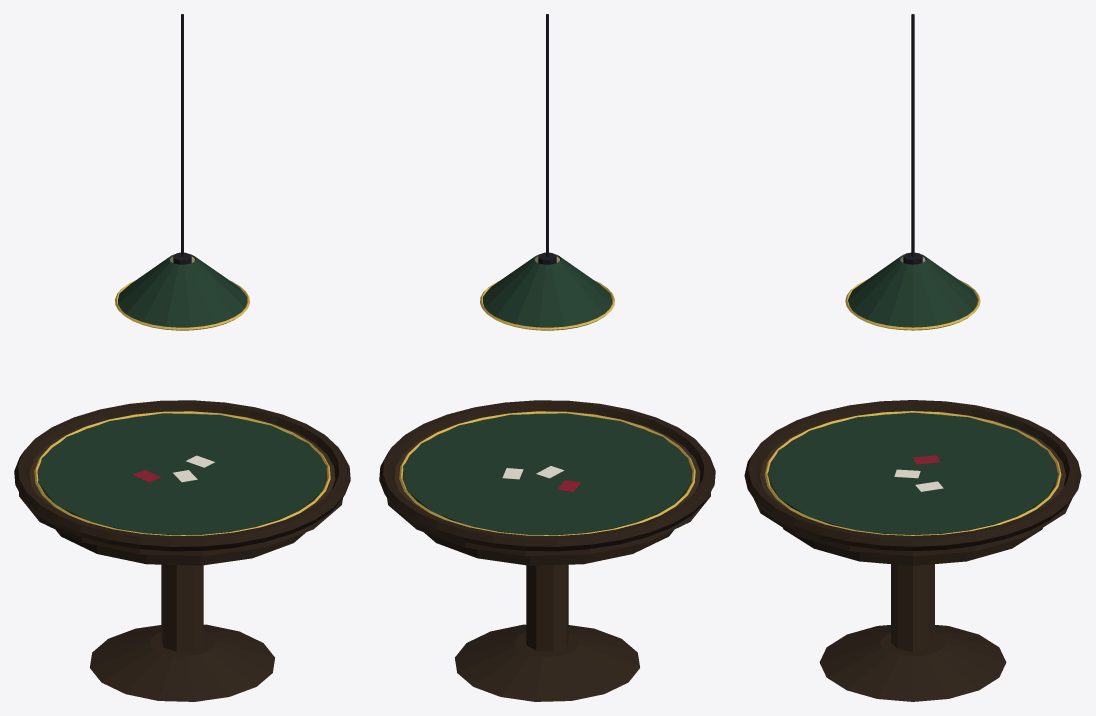
File: table_with_lamp.glb
3 renders of one model, left to right at view 1: azimuth 30°, elevation 25°; view 2: azimuth 150°, elevation 25°; view 3: azimuth 270°, elevation 25°, orthographic.
Parts seen in each view (by area): view 1: Table_Felt, Table_Rail, Table_Base, Lamp_Shade, Table_Leg, Table_Top, Table_Apron, Table_GoldRim, Lamp_Cord, Lamp_Ring; view 2: Table_Felt, Table_Rail, Table_Base, Lamp_Shade, Table_Leg, Table_Top, Table_Apron, Table_GoldRim, Lamp_Cord, Lamp_Ring; view 3: Table_Felt, Table_Rail, Table_Base, Lamp_Shade, Table_Leg, Table_Top, Table_Apron, Table_GoldRim, Lamp_Cord, Lamp_Ring.
Part boxes in pixels (x1,y1,x2,y2): Table_Felt: [38, 413, 326, 535]; Table_Rail: [14, 400, 350, 551]; Table_Base: [90, 624, 274, 701]; Lamp_Shade: [118, 254, 246, 327]; Table_Leg: [161, 564, 203, 651]; Table_Top: [19, 411, 342, 556]; Table_Apron: [56, 530, 305, 565]; Table_GoldRim: [34, 411, 330, 535]; Lamp_Cord: [181, 14, 183, 256]; Lamp_Ring: [115, 281, 249, 330]; Table_Felt: [403, 413, 691, 535]; Table_Rail: [379, 400, 715, 551]; Table_Base: [455, 624, 639, 701]; Lamp_Shade: [483, 254, 611, 327]; Table_Leg: [526, 564, 568, 651]; Table_Top: [387, 411, 710, 556]; Table_Apron: [424, 530, 673, 565]; Table_GoldRim: [399, 411, 695, 535]; Lamp_Cord: [546, 14, 548, 256]; Lamp_Ring: [480, 281, 614, 330]; Table_Felt: [767, 412, 1058, 534]; Table_Rail: [744, 400, 1081, 550]; Table_Base: [819, 625, 1006, 701]; Lamp_Shade: [848, 254, 977, 327]; Table_Leg: [891, 564, 934, 651]; Table_Top: [753, 411, 1072, 556]; Table_Apron: [783, 528, 1042, 565]; Table_GoldRim: [764, 411, 1061, 535]; Lamp_Cord: [911, 14, 914, 256]; Lamp_Ring: [845, 280, 980, 330].
Size of the model in its own units: 1.23 by 2.6 by 1.23.
